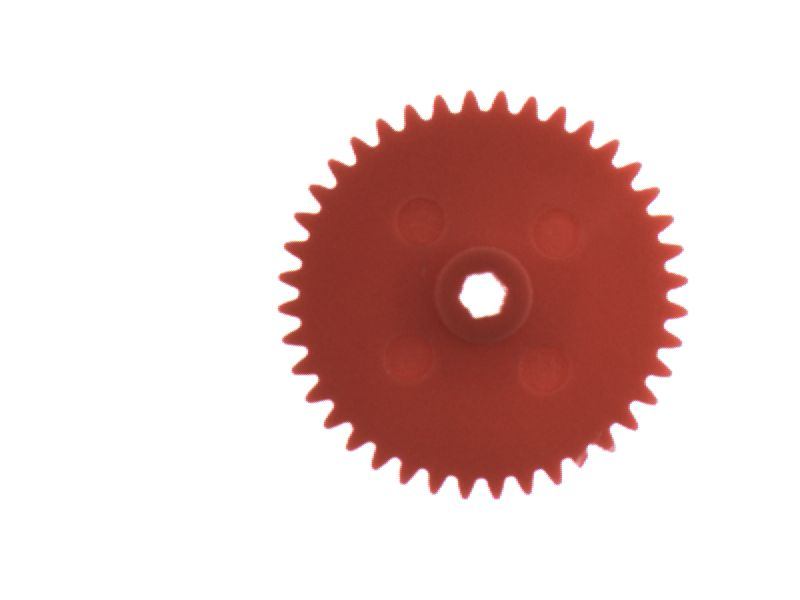defect_break: (557, 444, 604, 482)
